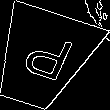P_S: (11, 29, 74, 89)
